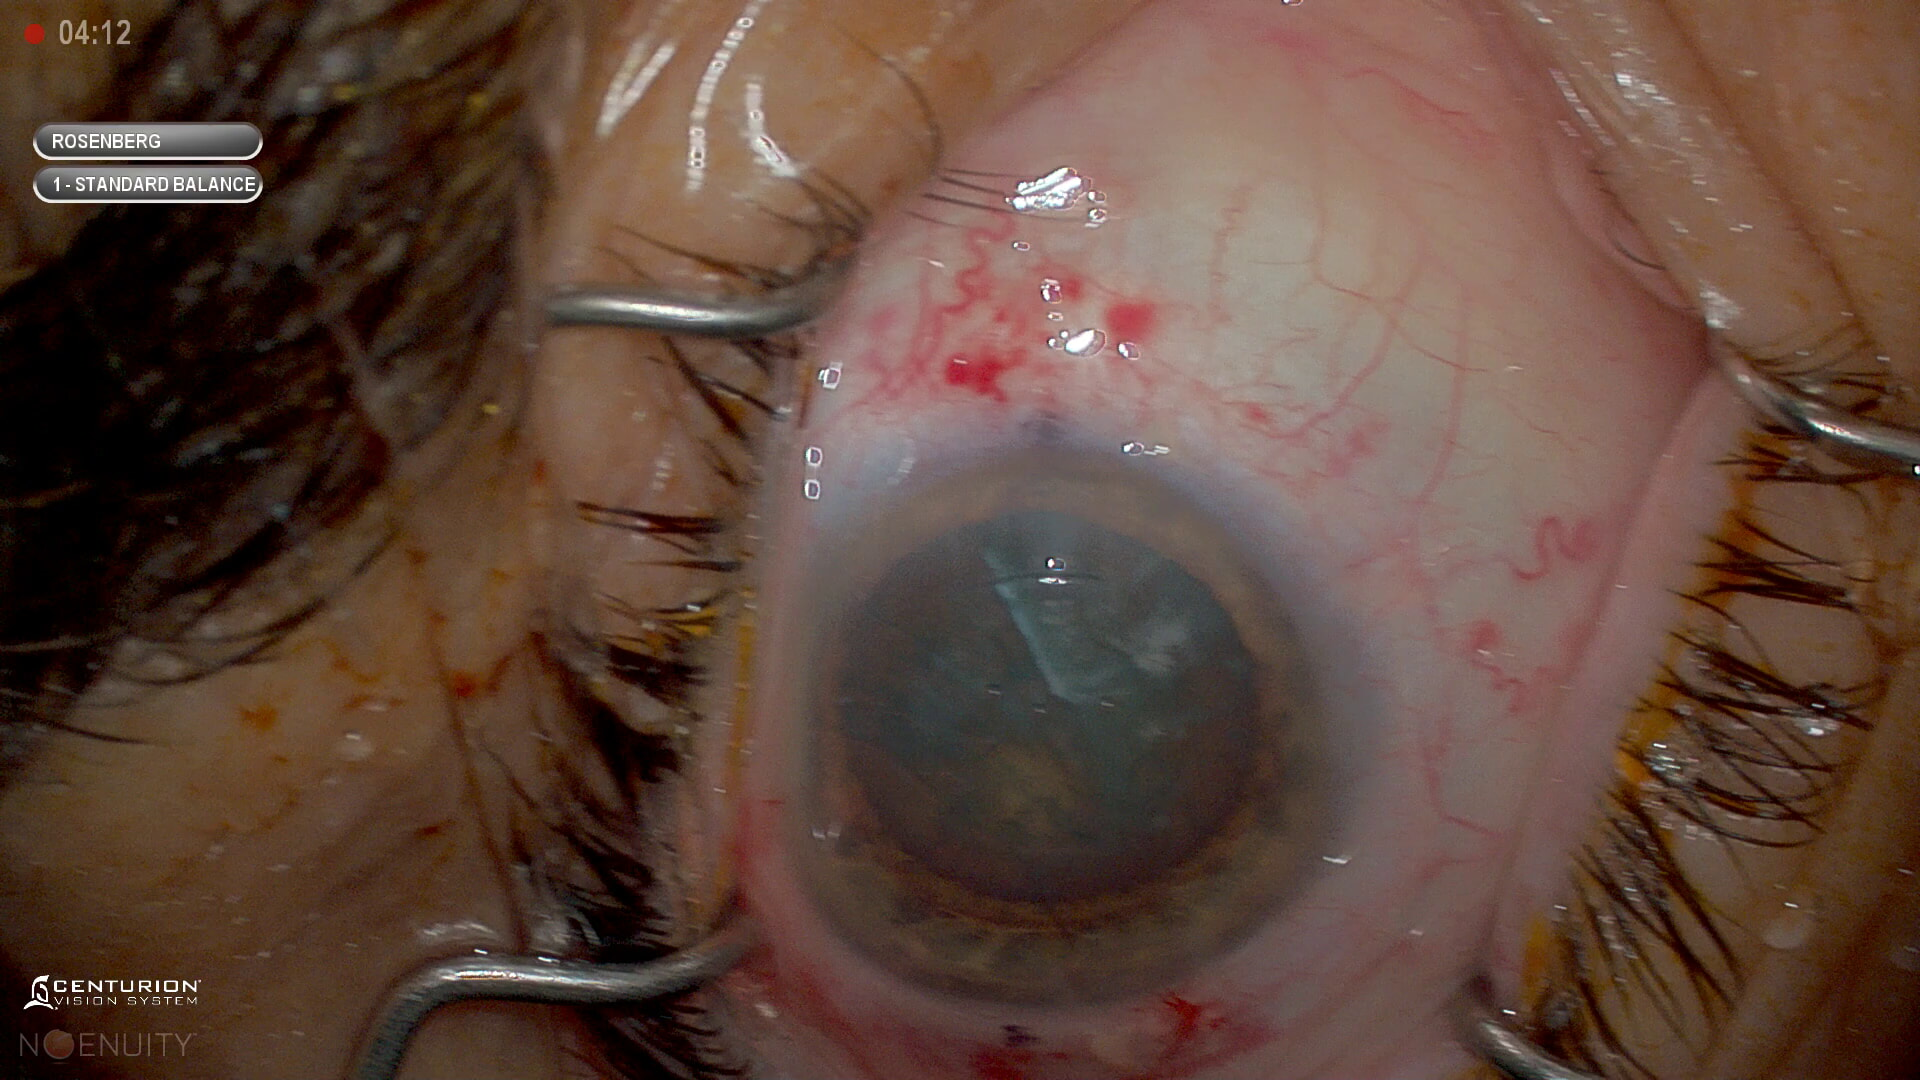iris: (769, 467, 1347, 995)
pupil: (835, 521, 1257, 912)
